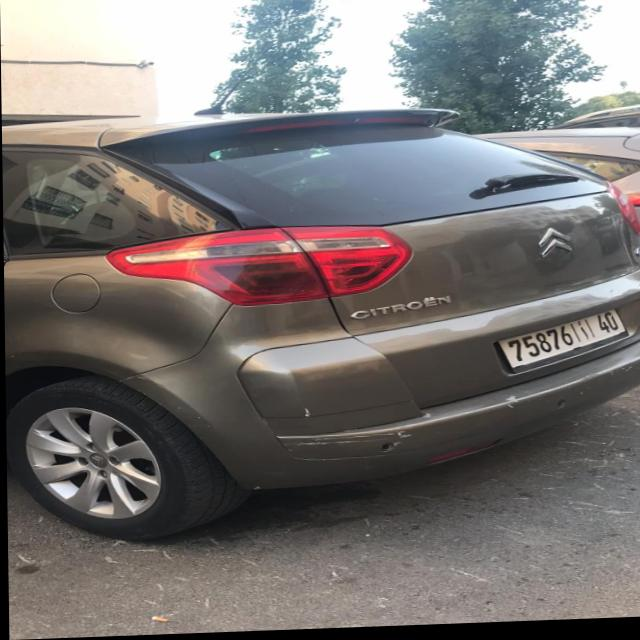License-Plate: (498, 315, 626, 376)
